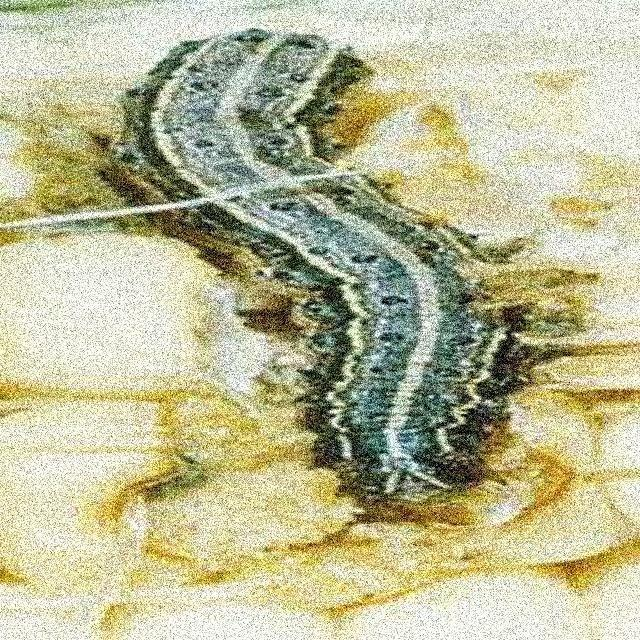gusano_cogollero: (136, 35, 506, 500)
